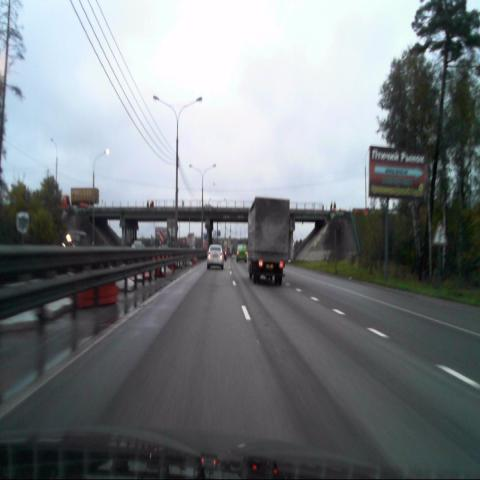2_3_2: (432, 220, 448, 245)
